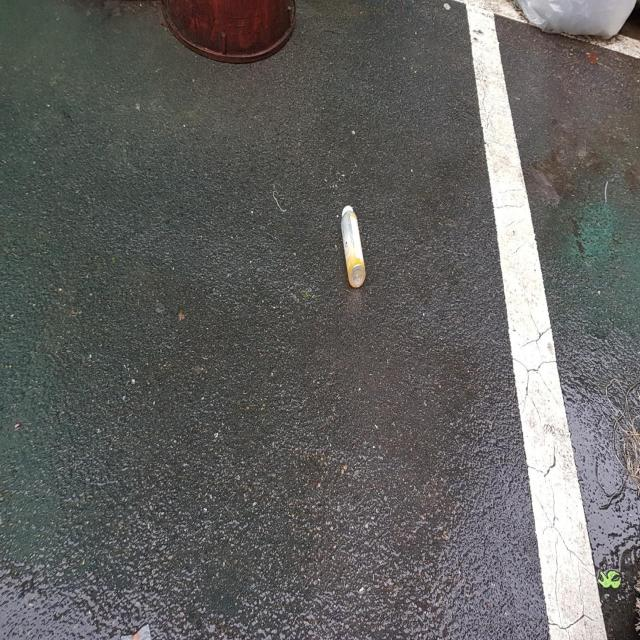plastic: (341, 204, 366, 287)
